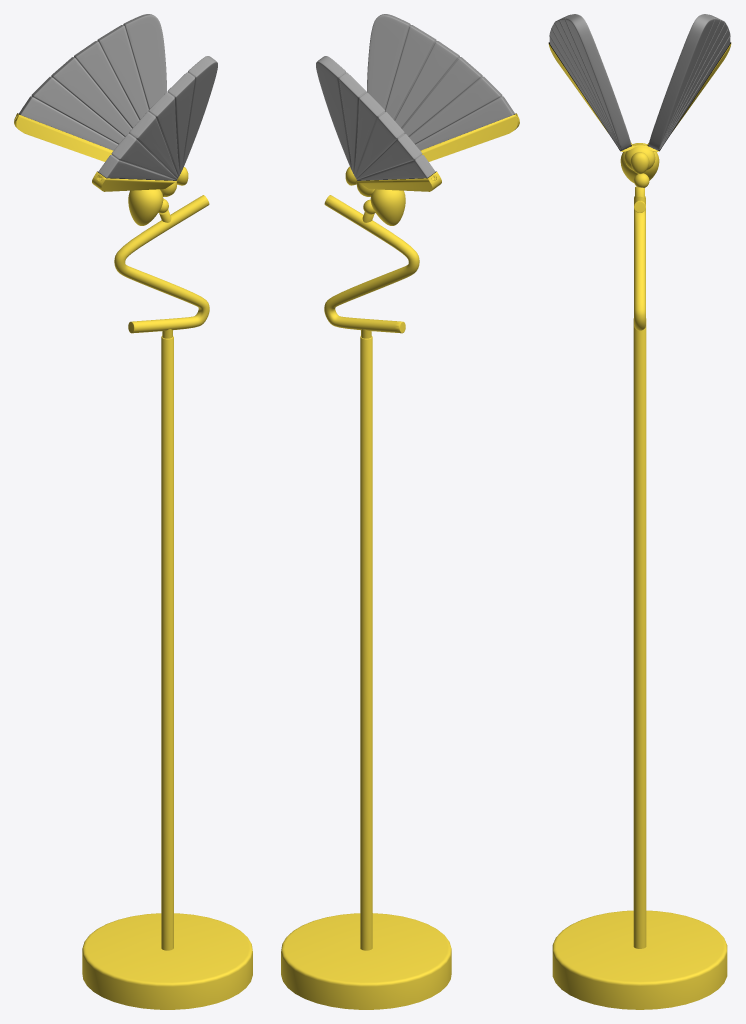
The model's file is floor1.obj.
3 views of the same model, side by side, from view 1: azimuth 30°, elevation 25°; view 2: azimuth 150°, elevation 25°; view 3: azimuth 270°, elevation 25° (orthographic). The views are drawn at different scales.
Parts seen in each view (by area): view 1: Cylinder001; view 2: Cylinder001; view 3: Cylinder001.
Part boxes in pixels (box(x1,y1,x2,y2)): Cylinder001: box(14, 14, 252, 1009); Cylinder001: box(281, 14, 519, 1009); Cylinder001: box(548, 14, 731, 1009).
Size of the model in its own units: 0.3181 by 1.52 by 0.262.
